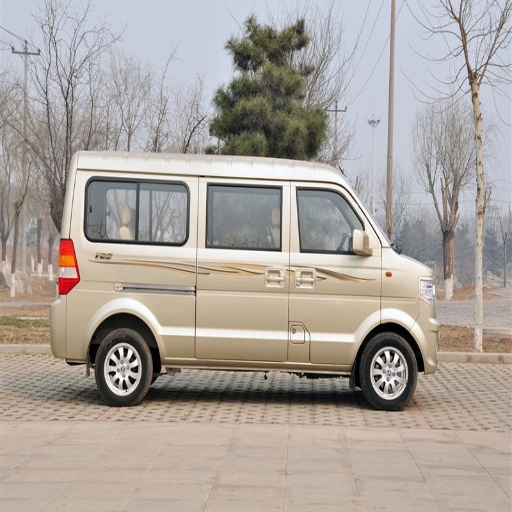back_right_door: (191, 180, 291, 353), (91, 177, 176, 223)
trunk: (56, 260, 194, 358), (388, 262, 428, 346)
